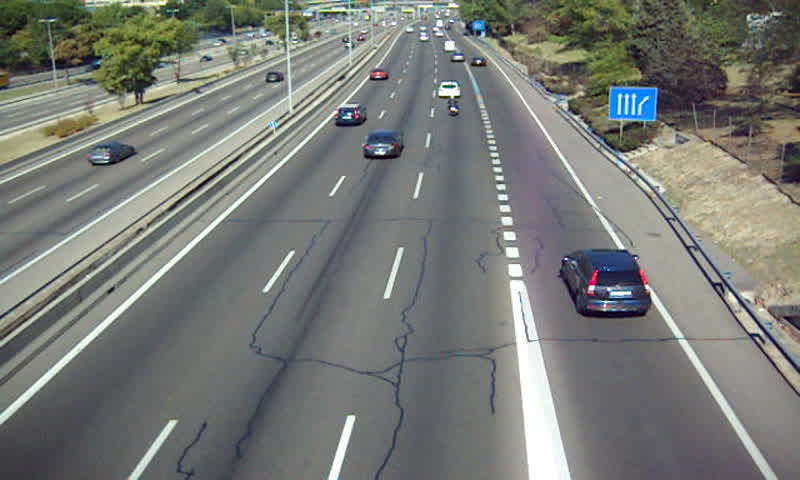car: (564, 250, 651, 317), (362, 130, 403, 158), (335, 104, 367, 127), (435, 82, 462, 99), (368, 69, 387, 83)
motorcycle: (445, 94, 462, 116)
